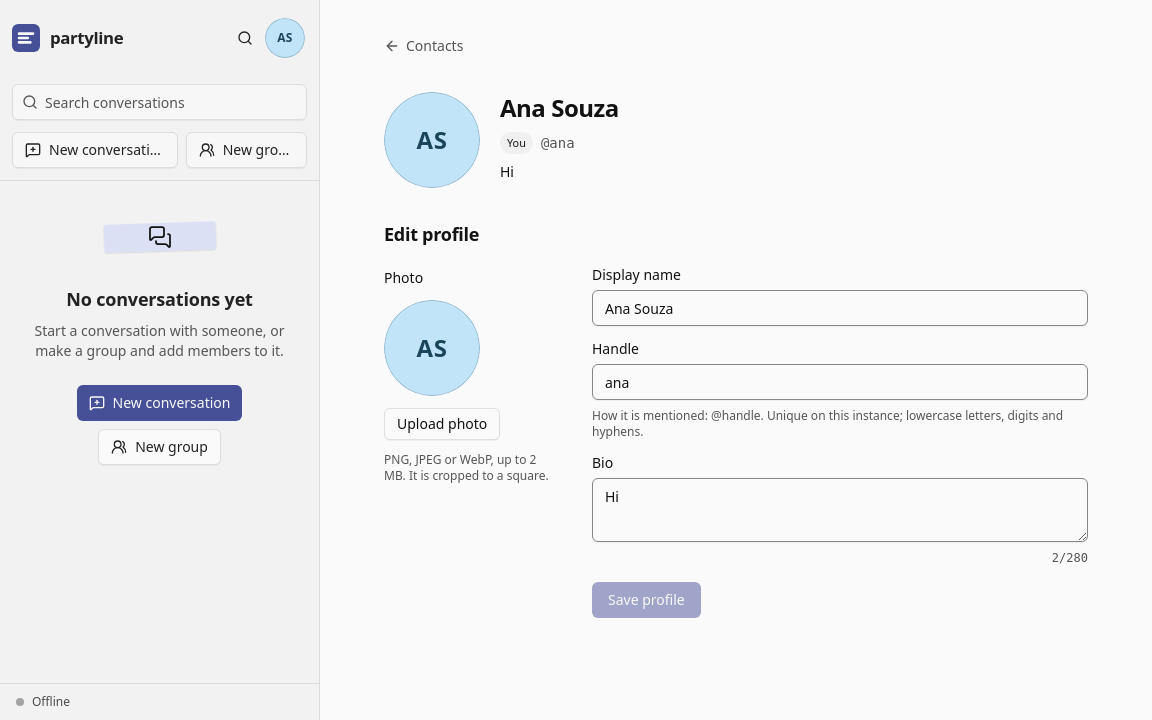
Test: editing a profile (PROF-03, PROF-05) › lets a person edit their own account
Replace the text in the field labelled "Display name" with "Ana S." at point(840, 308), box [592, 290, 1088, 326]
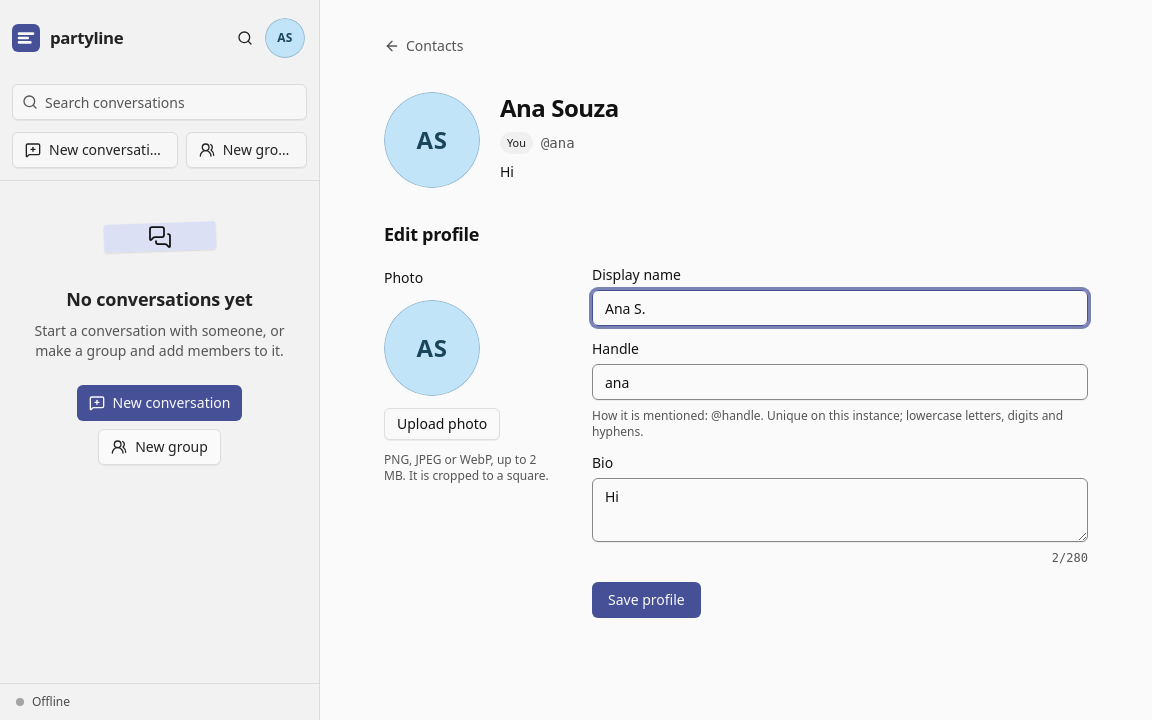
Click the button "Save profile".
click(646, 600)  # box [592, 582, 701, 618]
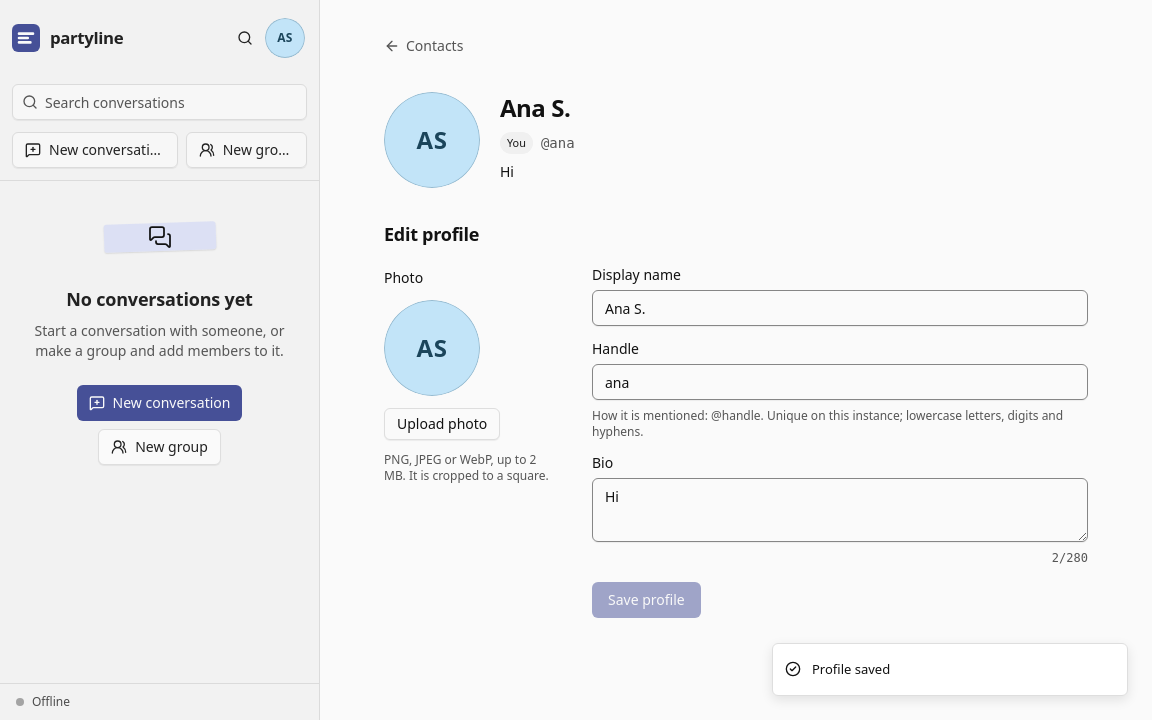
Expected: the text "Profile saved" is shown, [812, 660, 890, 679]
